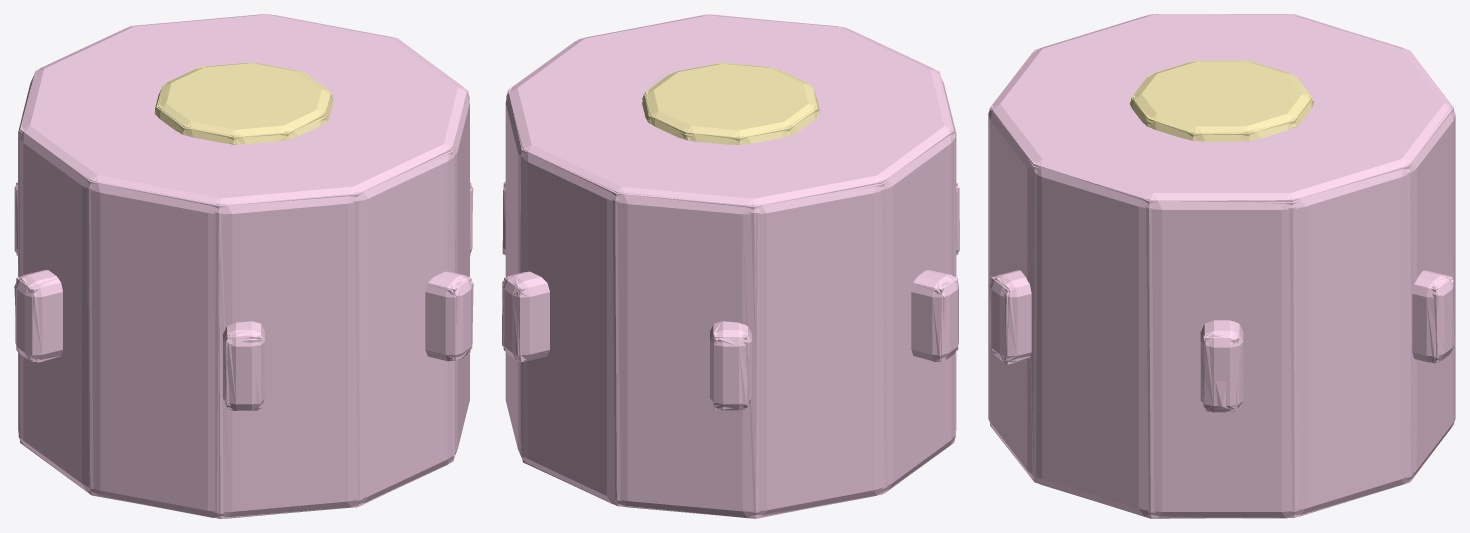
Rendered from SM_Spinner.fbx.
3 renders of one model, left to right at view 1: azimuth 30°, elevation 25°; view 2: azimuth 150°, elevation 25°; view 3: azimuth 270°, elevation 25°, orthographic.
Parts seen in each view (by area): view 1: SM_Spinner, LOD1_SM_Spinner, LOD2_SM_Spinner, LOD3_SM_Spinner; view 2: SM_Spinner, LOD1_SM_Spinner, LOD2_SM_Spinner, LOD3_SM_Spinner; view 3: SM_Spinner, LOD1_SM_Spinner, LOD2_SM_Spinner, LOD3_SM_Spinner.
Boxes of the visible parts, x1,y1,x2,y2 form: SM_Spinner: (15,14,472,518); LOD1_SM_Spinner: (15,14,473,516); LOD2_SM_Spinner: (14,14,473,518); LOD3_SM_Spinner: (16,34,471,518); SM_Spinner: (503,15,958,517); LOD1_SM_Spinner: (502,15,958,515); LOD2_SM_Spinner: (502,26,959,517); LOD3_SM_Spinner: (502,14,958,518); SM_Spinner: (989,14,1454,518); LOD1_SM_Spinner: (988,14,1455,517); LOD2_SM_Spinner: (991,14,1453,517); LOD3_SM_Spinner: (989,14,1454,518).
Size of the model in its own units: 0.4008 by 0.2907 by 0.3572.
